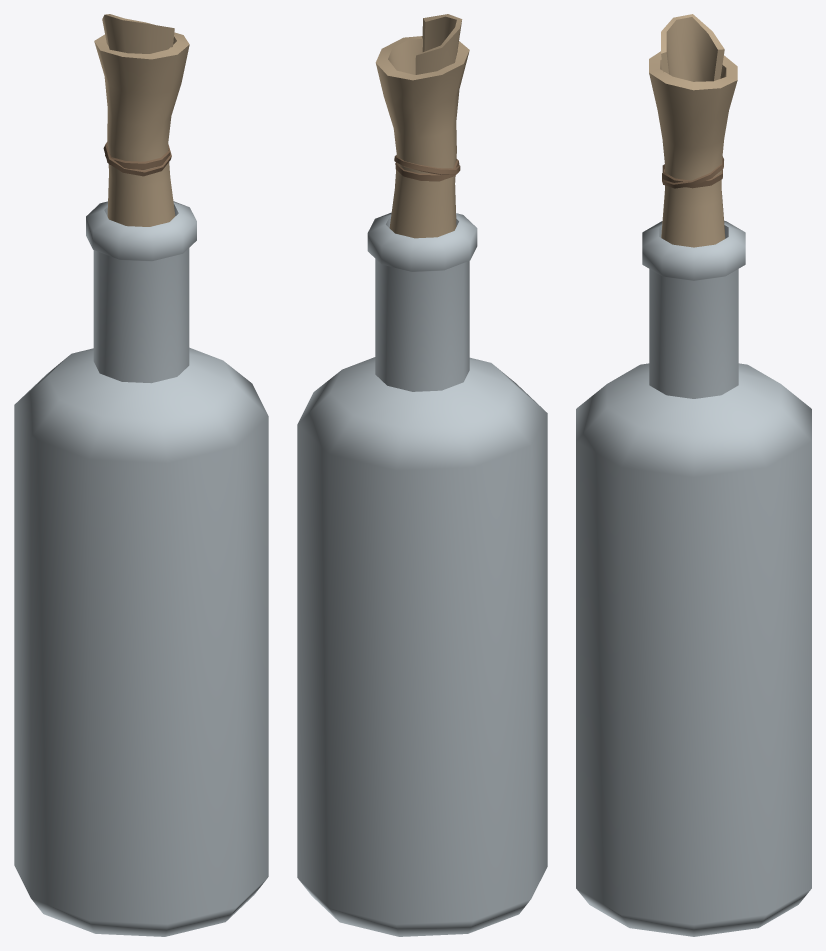
The model's file is P_MessageBottle_01_LD.fbx.
3 renders of one model, left to right at view 1: azimuth 30°, elevation 25°; view 2: azimuth 150°, elevation 25°; view 3: azimuth 270°, elevation 25°, orthographic. The views are drawn at different scales.
Parts seen in each view (by area): view 1: P_MessageBottle_01; view 2: P_MessageBottle_01; view 3: P_MessageBottle_01.
Part boxes in pixels (x1,y1,x2,y2): P_MessageBottle_01: (14,14,268,936); P_MessageBottle_01: (297,14,547,936); P_MessageBottle_01: (576,14,811,936).
Bounding box in the file's own units: 23.94 × 91.5 × 22.77.
1 material, 1 textured.
